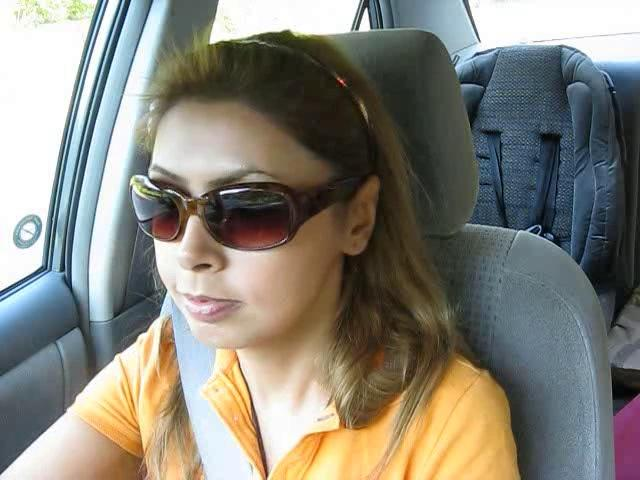no_yawn: (158, 270, 258, 339)
